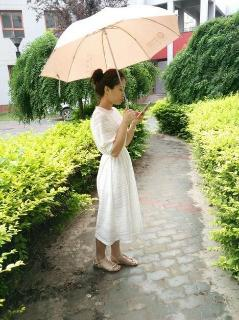short sleeve dress: (91, 106, 144, 245)
